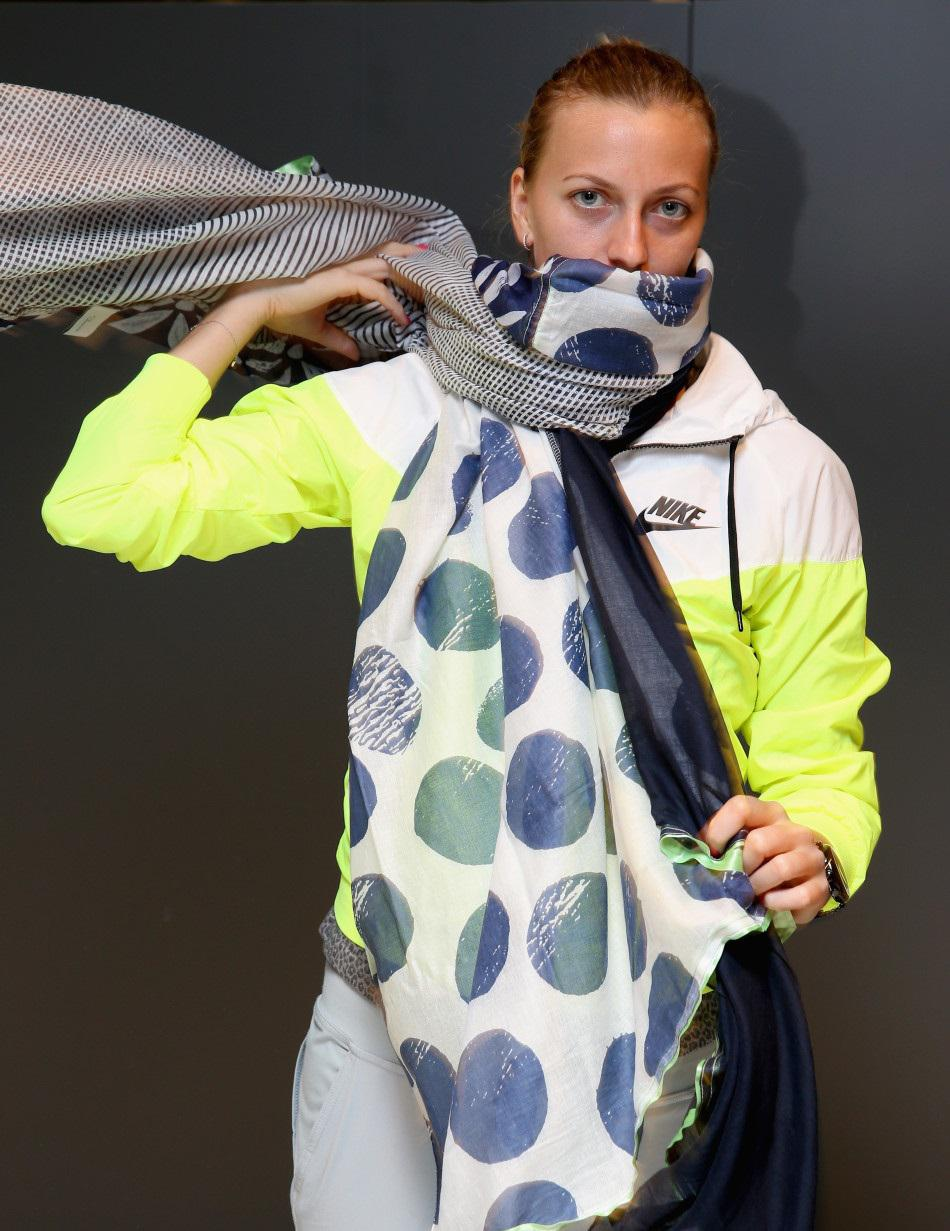WRONG: (529, 166, 707, 344)
